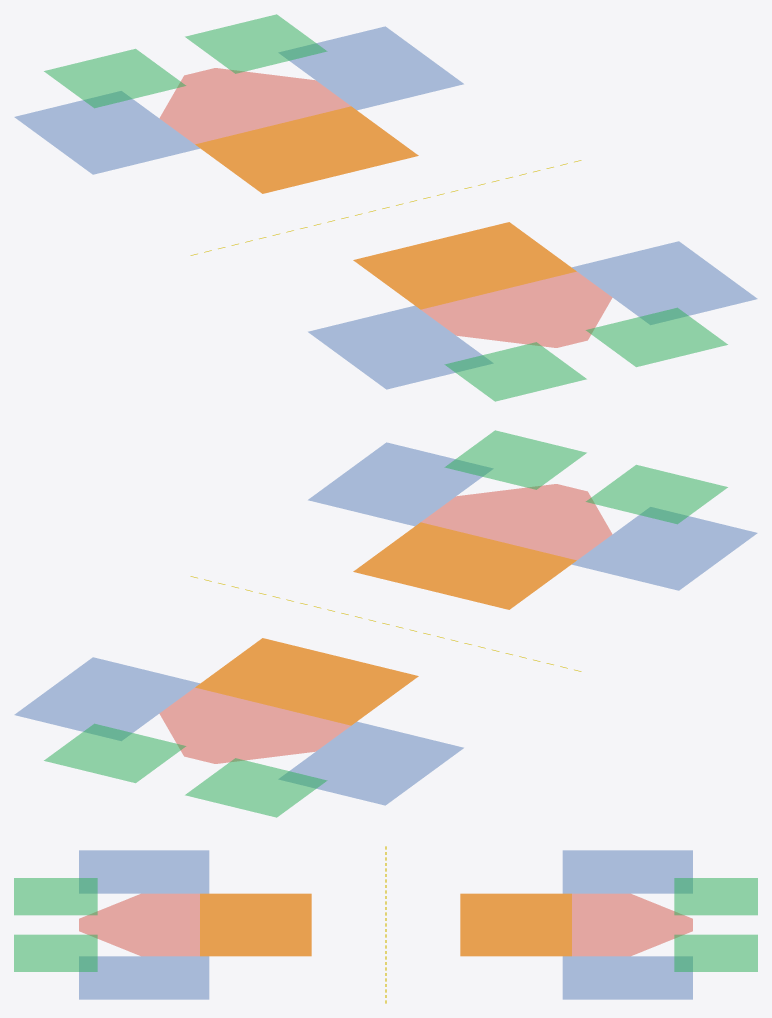
File: tactical_zones.obj
The picture shows the model from 3 angles, top to bottom: view 1: azimuth 30°, elevation 25°; view 2: azimuth 150°, elevation 25°; view 3: azimuth 270°, elevation 25°; orthographic projection. The views are drawn at different scales.
Parts seen in each view (by area): view 1: Pocket, SlotHigh, Playmaker, SlotNear; view 2: Pocket, SlotHigh, Playmaker, SlotNear; view 3: Pocket, SlotHigh, Playmaker, SlotNear.
Boxes of the visible parts, x1,y1,x2,y2 form: Pocket: (15,26,756,389); SlotHigh: (195,106,576,309); Playmaker: (44,14,727,401); SlotNear: (159,68,612,347); Pocket: (15,442,756,805); SlotHigh: (195,522,576,725); Playmaker: (44,430,727,817); SlotNear: (159,484,612,763); Pocket: (79,850,692,999); SlotHigh: (200,893,571,956); Playmaker: (14,878,757,971); SlotNear: (79,893,692,956).
Bounding box in the file's own units: 20000 × 0.15 × 40000.
